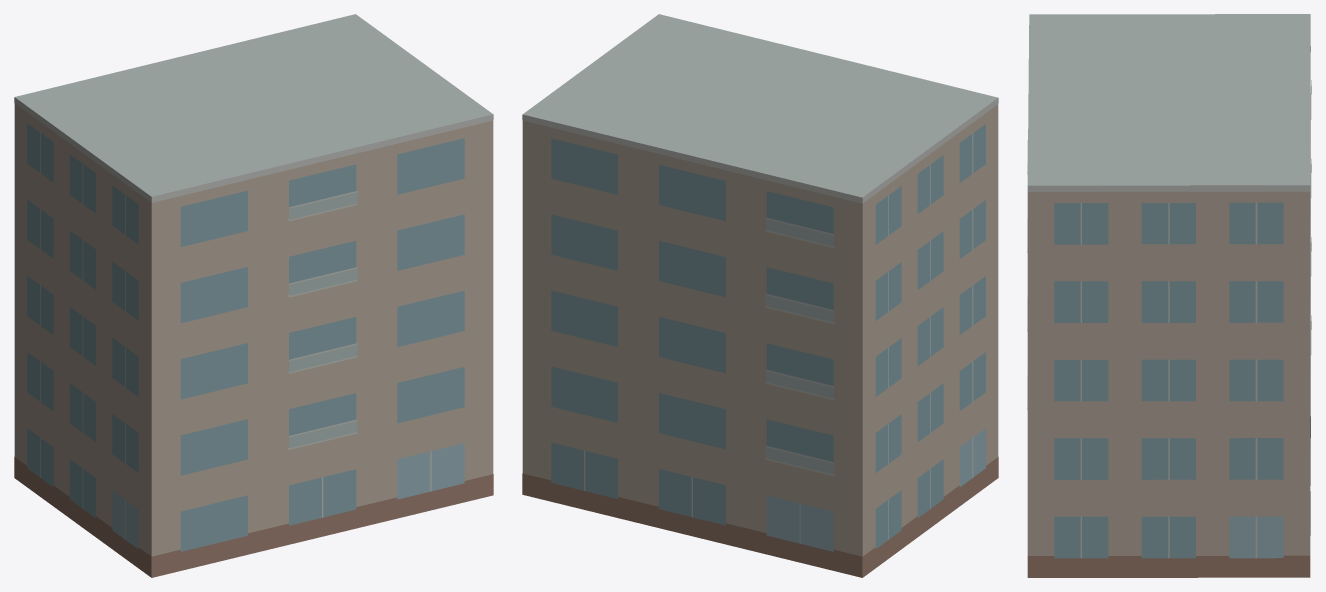
Rendered from survey-upis-32877402.glb.
The picture shows the model from 3 angles, left to right: view 1: azimuth 30°, elevation 25°; view 2: azimuth 150°, elevation 25°; view 3: azimuth 270°, elevation 25°; orthographic projection. The views are drawn at different scales.
Parts seen in each view (by area): view 1: survey-upis-32877402.tmp; view 2: survey-upis-32877402.tmp; view 3: survey-upis-32877402.tmp.
Part boxes in pixels (x1,y1,x2,y2): survey-upis-32877402.tmp: (14,14,493,577); survey-upis-32877402.tmp: (522,14,998,577); survey-upis-32877402.tmp: (1027,14,1311,577).
Bounding box in the file's own units: 14.32 × 15.25 × 10.03.
